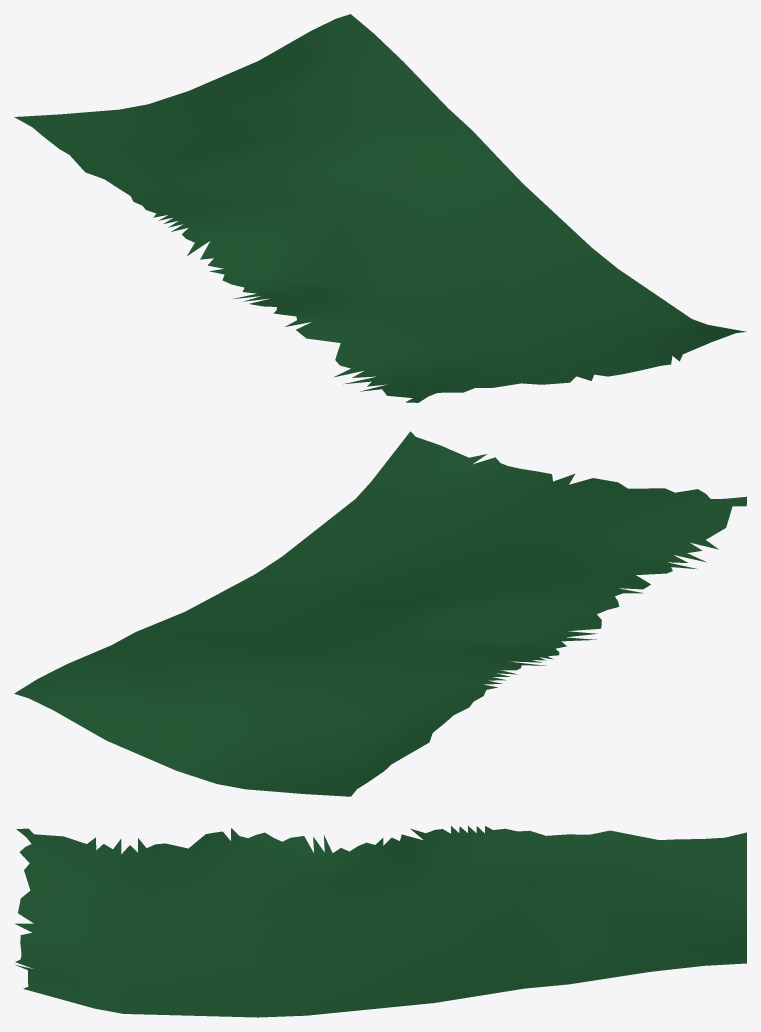
File: payo_land_xm5_ym3_lod2.glb
3 renders of one model, top to bottom at view 1: azimuth 30°, elevation 25°; view 2: azimuth 150°, elevation 25°; view 3: azimuth 270°, elevation 25°, orthographic. The views are drawn at different scales.
Visible parts, largest first — view 1: payo_land_xm5_ym3; view 2: payo_land_xm5_ym3; view 3: payo_land_xm5_ym3.
Boxes of the visible parts, box(x1,y1,x2,y2) form: payo_land_xm5_ym3: box(14, 14, 746, 402); payo_land_xm5_ym3: box(14, 431, 746, 796); payo_land_xm5_ym3: box(15, 826, 746, 1017).
Size of the model in its own units: 131 by 21.38 by 260.
